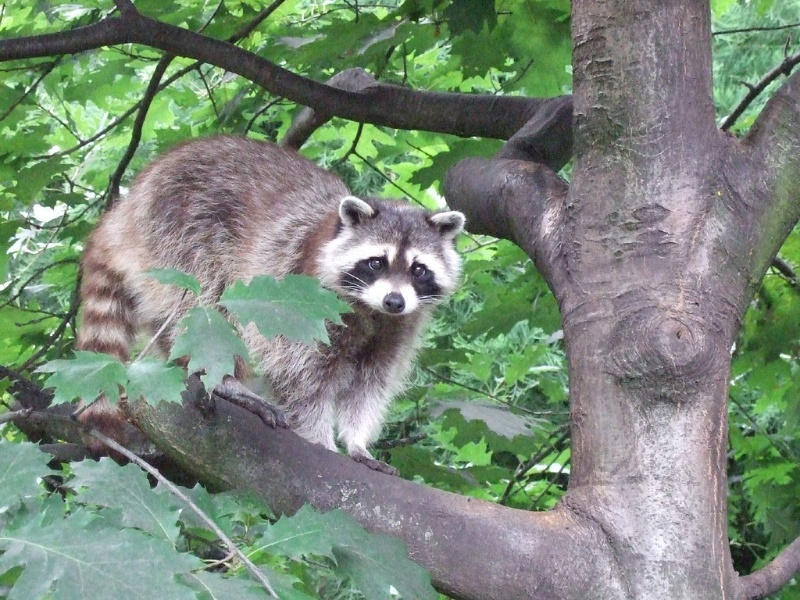raccoon: (75, 137, 467, 473)
